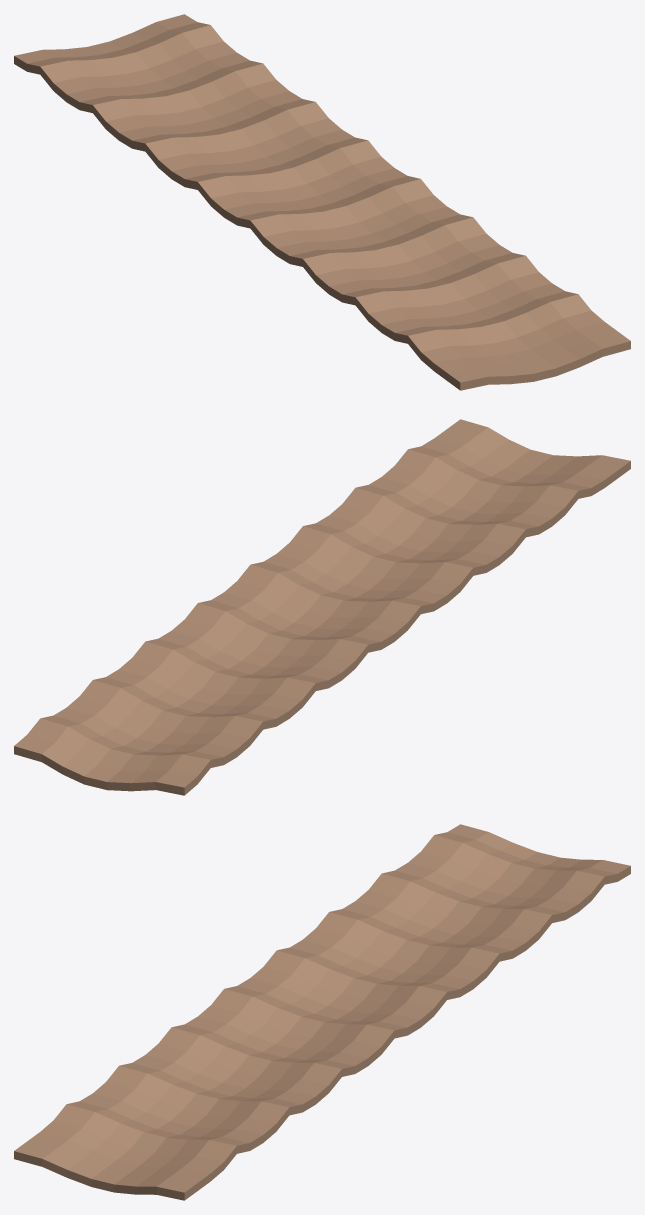
The model's file is Suelo005.fbx.
3 renders of one model, top to bottom at view 1: azimuth 30°, elevation 25°; view 2: azimuth 150°, elevation 25°; view 3: azimuth 330°, elevation 25°, orthographic.
Parts seen in each view (by area): view 1: Cube.015; view 2: Cube.015; view 3: Cube.015.
Part boxes in pixels (box(x1,y1,x2,y2)): Cube.015: box(14, 14, 630, 390); Cube.015: box(14, 419, 630, 795); Cube.015: box(14, 824, 630, 1200).
Bounding box in the file's own units: 441 × 68.33 × 2008.
